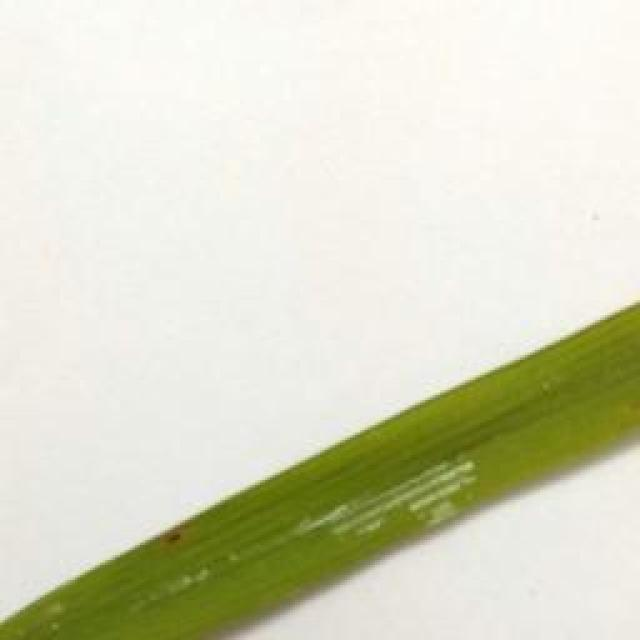Bacterial_Blight: (269, 445, 486, 557)
Brown_Spot: (142, 524, 195, 559)
